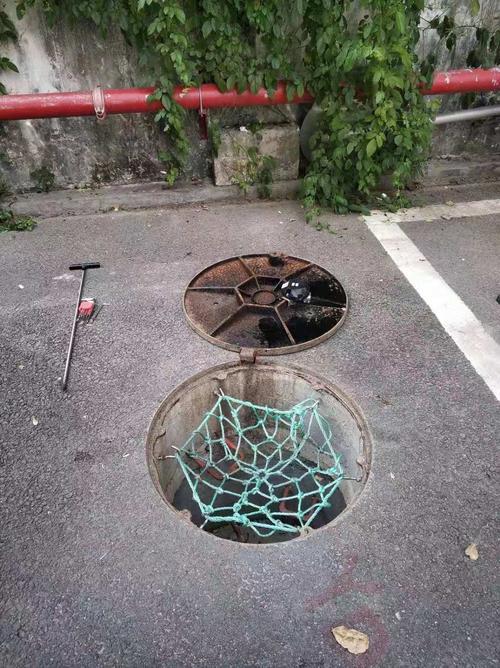uncovered: (121, 235, 398, 553)
